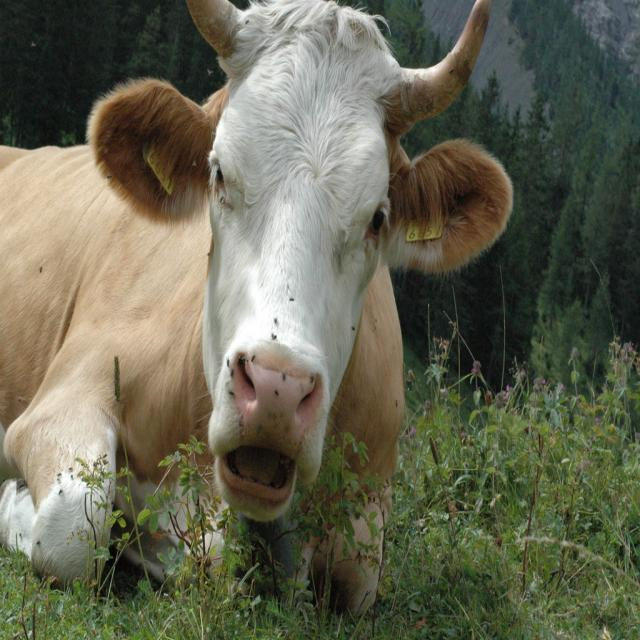Cattle: (0, 0, 514, 619)
